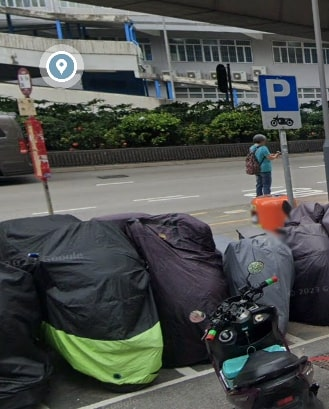Parking: (254, 73, 309, 136)
